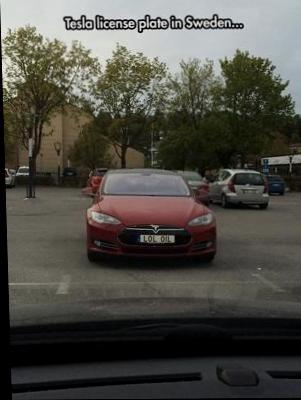License_Plate: (140, 233, 175, 244)
